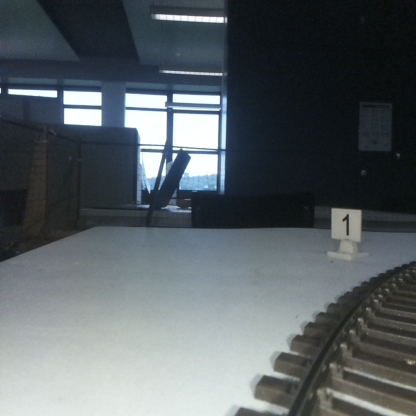white-stop-1: (331, 209, 361, 257)
